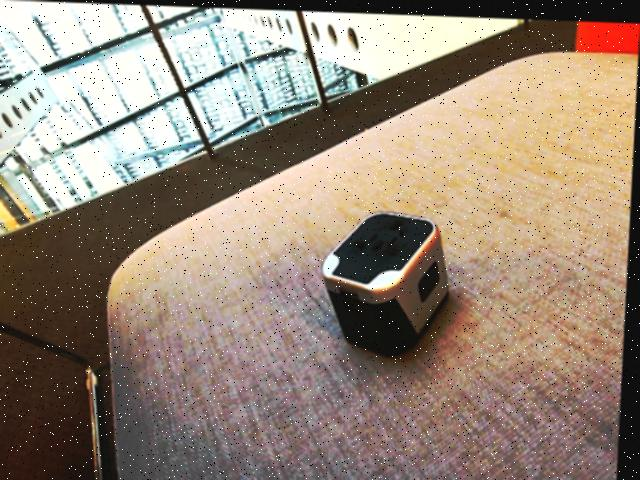adapter: (321, 205, 455, 354)
